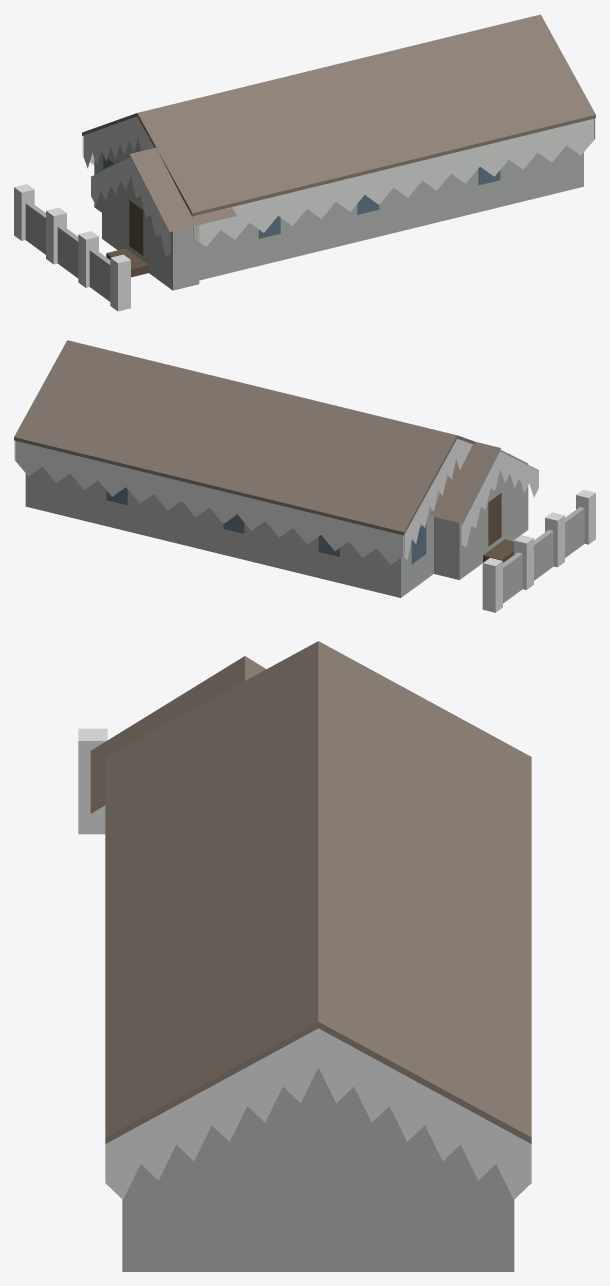
Rendered from hou-beer-can-house.glb.
3 renders of one model, top to bottom at view 1: azimuth 30°, elevation 25°; view 2: azimuth 150°, elevation 25°; view 3: azimuth 270°, elevation 25°, orthographic. The views are drawn at different scales.
Parts seen in each view (by area): view 1: Beer Can House; view 2: Beer Can House; view 3: Beer Can House.
Boxes of the visible parts, x1,y1,x2,y2 form: Beer Can House: (14,14,595,311); Beer Can House: (14,340,595,612); Beer Can House: (78,641,531,1271).
Size of the model in its own units: 22.09 by 5.8 by 9.25.
